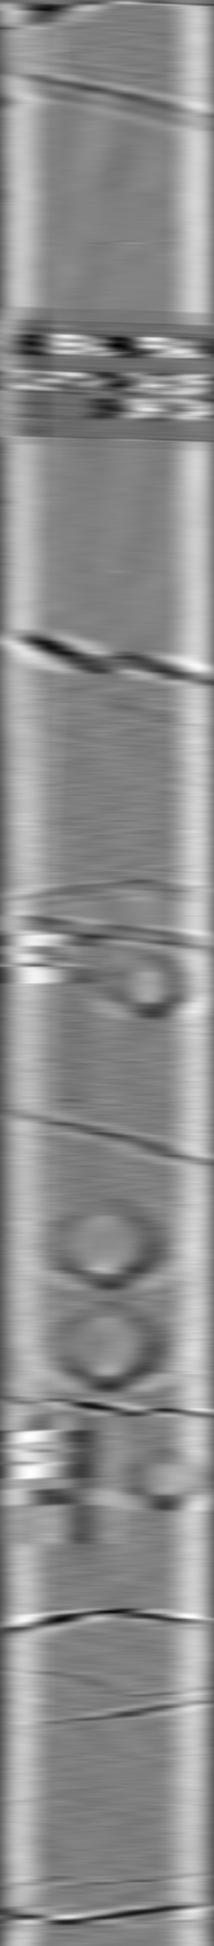hplug: (128, 1438, 204, 1517), (112, 948, 188, 1021)
scal: (56, 1194, 160, 1296), (58, 1299, 158, 1394)
vplug: (14, 1409, 92, 1553)
